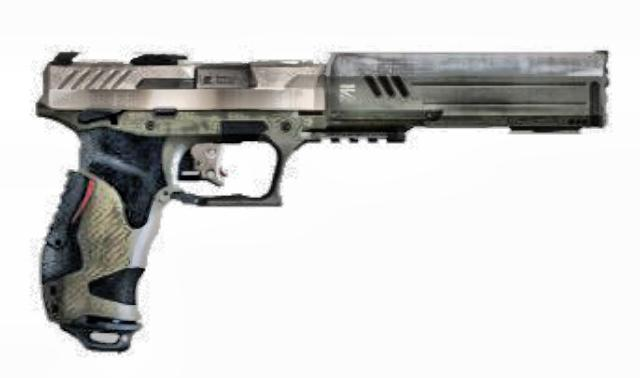pistol: (38, 51, 608, 347)
